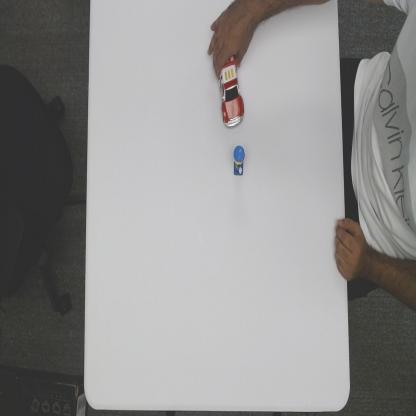Firetruck: (218, 51, 245, 132)
Hand: (206, 1, 258, 73), (336, 217, 350, 282)
